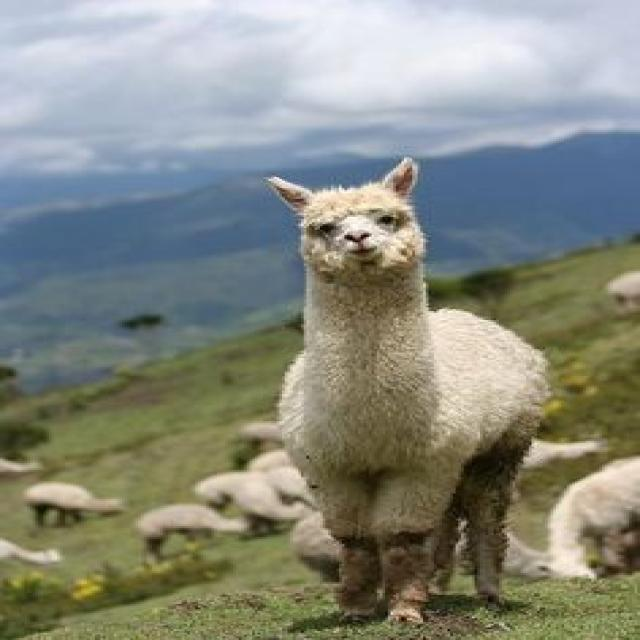Herbivorous: (266, 159, 551, 624)
